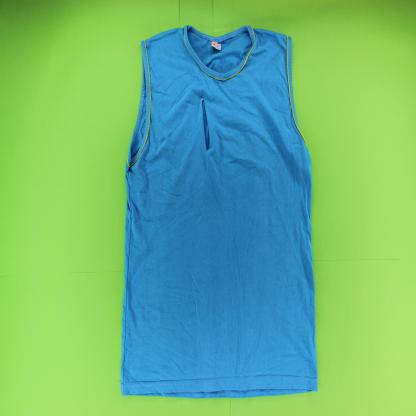hole: (200, 97, 210, 151)
